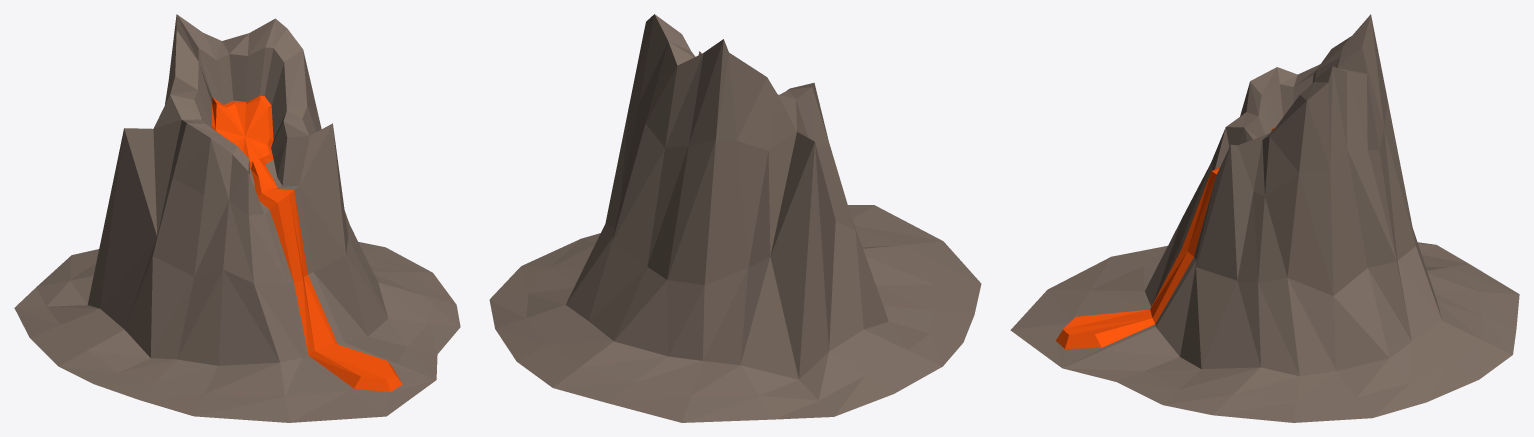
The model's file is 8gkFBBcS6aM.glb.
The picture shows the model from 3 angles, left to right: view 1: azimuth 30°, elevation 25°; view 2: azimuth 150°, elevation 25°; view 3: azimuth 270°, elevation 25°; orthographic projection. The views are drawn at different scales.
Visible parts, largest first — view 1: Volcano; view 2: Volcano; view 3: Volcano.
Part boxes in pixels (bbox=[...]): Volcano: bbox=[14, 14, 460, 422]; Volcano: bbox=[489, 14, 981, 422]; Volcano: bbox=[1010, 14, 1519, 422].
Size of the model in its own units: 1.38 by 1 by 1.55.
1 material, 1 textured.
